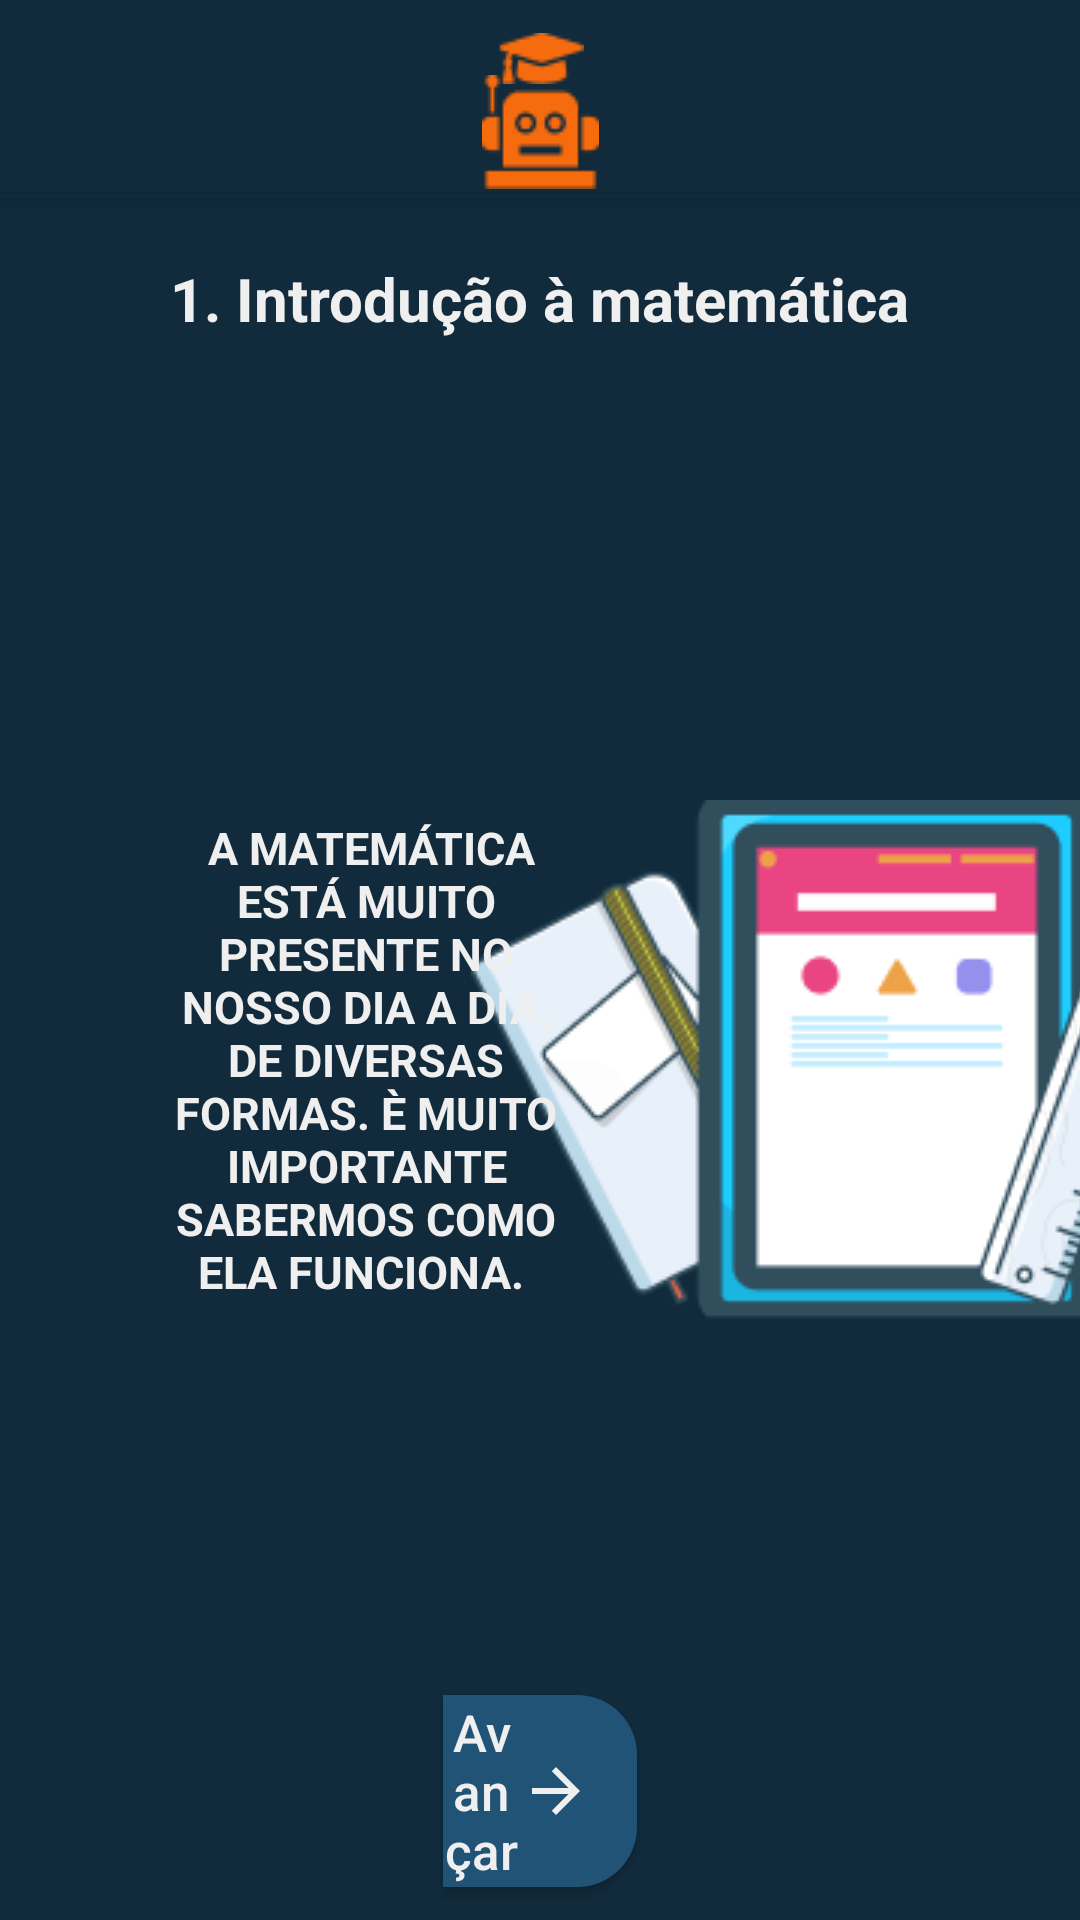

Icons on this 1080px×1920px Android screen, each with the point to tap as (x=x, y=y):
cap: (x=541, y=58)
minirobot: (x=540, y=132)
